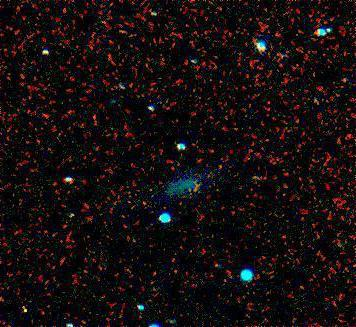star: (12, 293, 42, 323)
